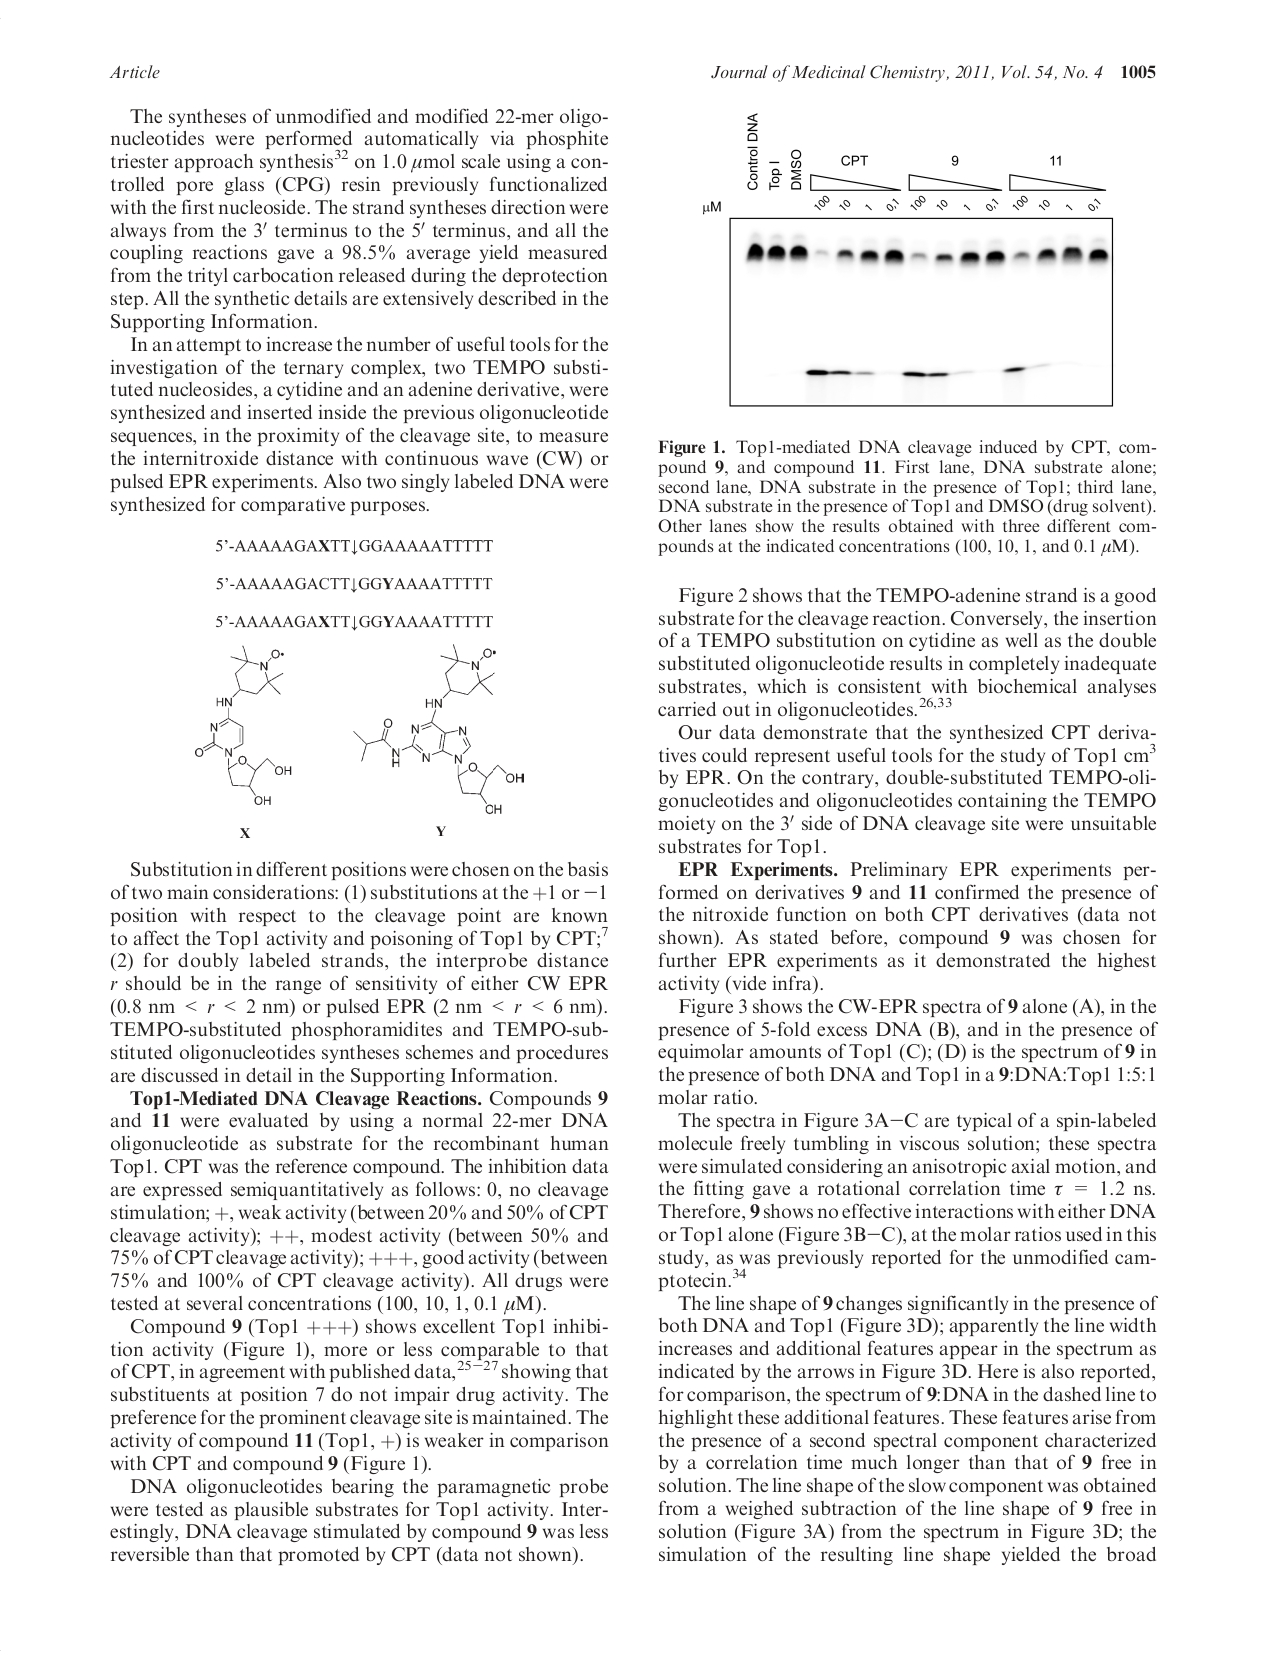exist_molecular: (347, 640, 531, 814), (194, 640, 294, 807)
